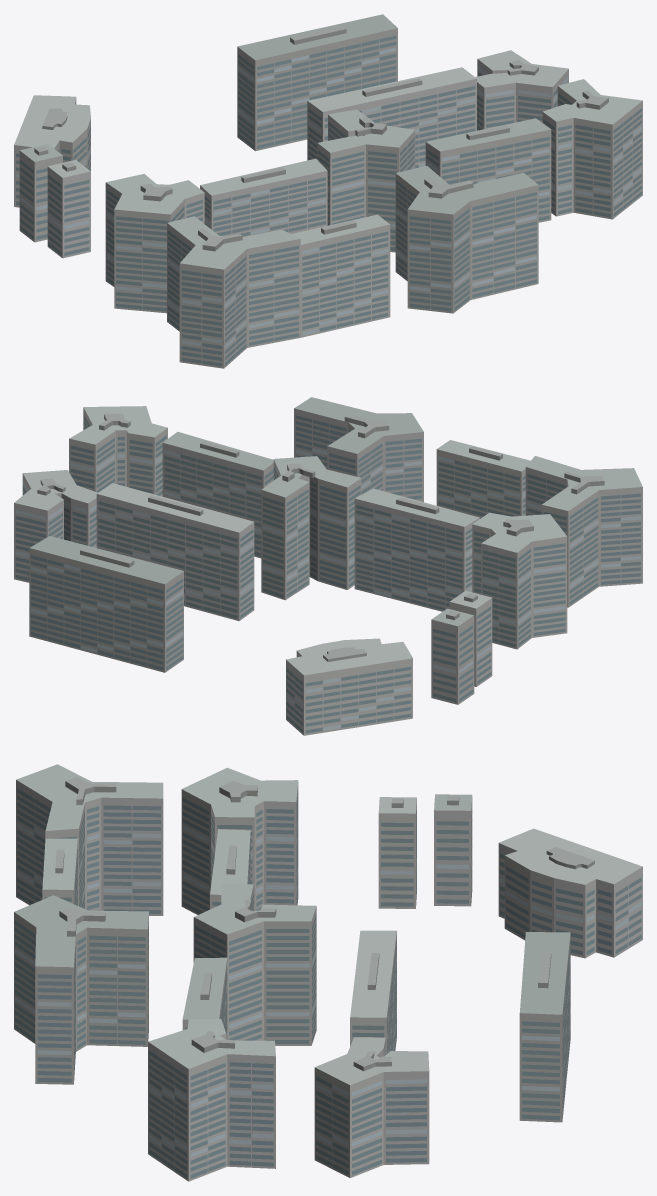
The model's file is apt-a13771001.glb.
The picture shows the model from 3 angles, top to bottom: view 1: azimuth 30°, elevation 25°; view 2: azimuth 150°, elevation 25°; view 3: azimuth 270°, elevation 25°; orthographic projection. The views are drawn at different scales.
Parts seen in each view (by area): view 1: apt-a13771001; view 2: apt-a13771001; view 3: apt-a13771001.
Part boxes in pixels (x1,y1,x2,y2): apt-a13771001: (14, 14, 642, 368); apt-a13771001: (14, 397, 642, 735); apt-a13771001: (14, 764, 642, 1181).
Bounding box in the file's own units: 251 × 51 × 222.
